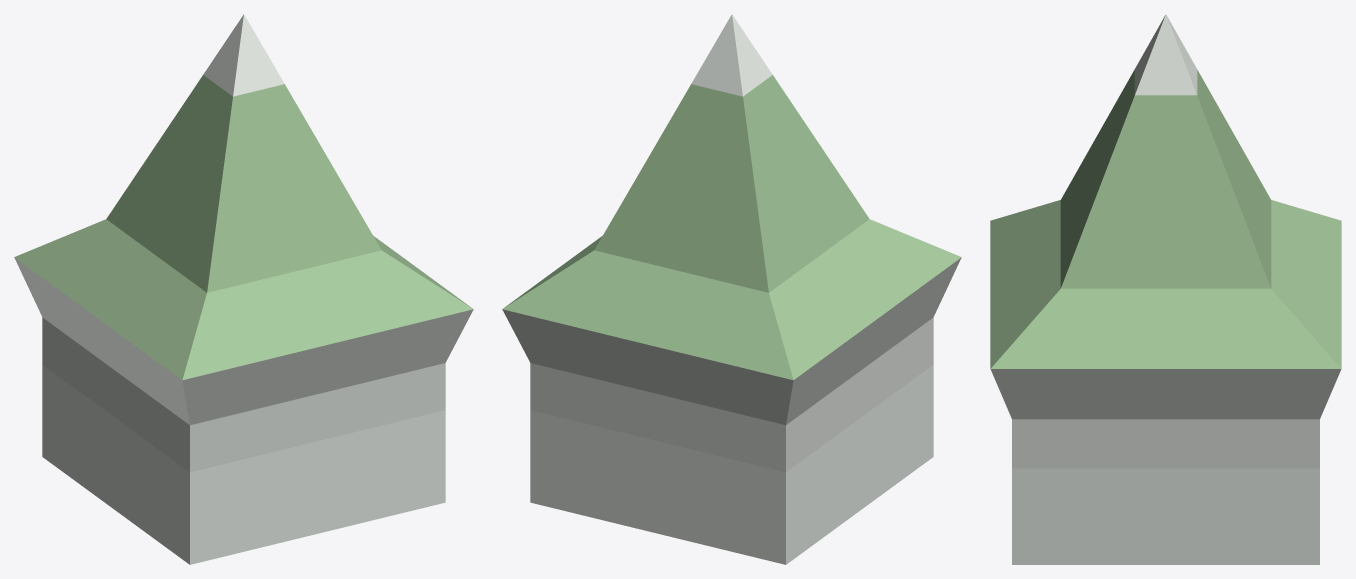
Rendered from tile_022.glb.
The picture shows the model from 3 angles, left to right: view 1: azimuth 30°, elevation 25°; view 2: azimuth 150°, elevation 25°; view 3: azimuth 270°, elevation 25°; orthographic projection. The views are drawn at different scales.
Parts seen in each view (by area): view 1: tile_022; view 2: tile_022; view 3: tile_022.
Boxes of the visible parts, x1=… form: tile_022: x1=14, y1=14, x2=473, y2=564; tile_022: x1=502, y1=14, x2=961, y2=564; tile_022: x1=990, y1=14, x2=1341, y2=564.
Bounding box in the file's own units: 0.6727 × 1.03 × 0.6727.
